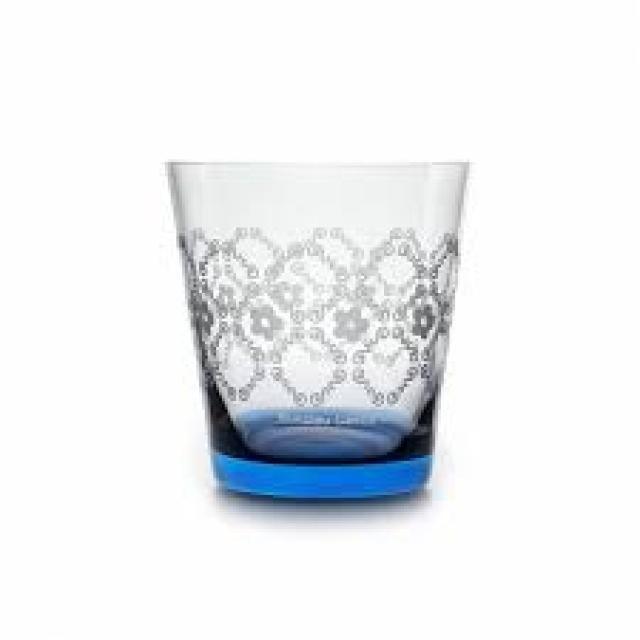Glass: (165, 159, 471, 502)
